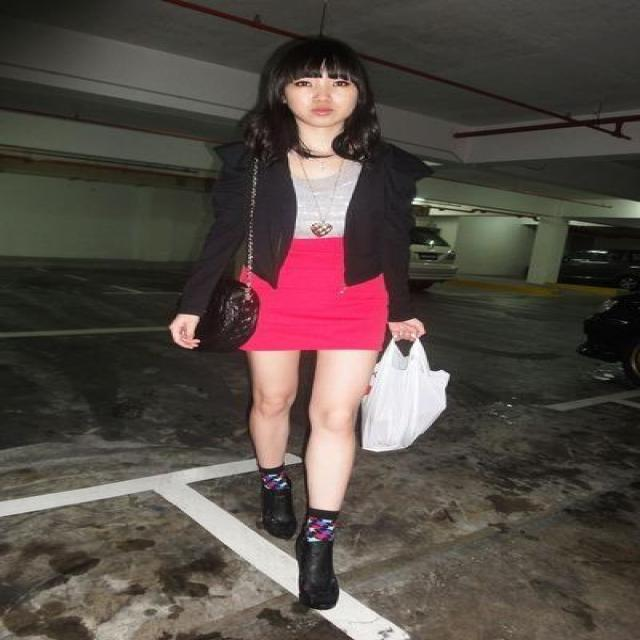bag: (194, 278, 448, 452)
jacket: (162, 141, 432, 319)
shirt: (290, 156, 360, 238)
shoe: (229, 440, 339, 618)
skirt: (240, 232, 406, 362)
